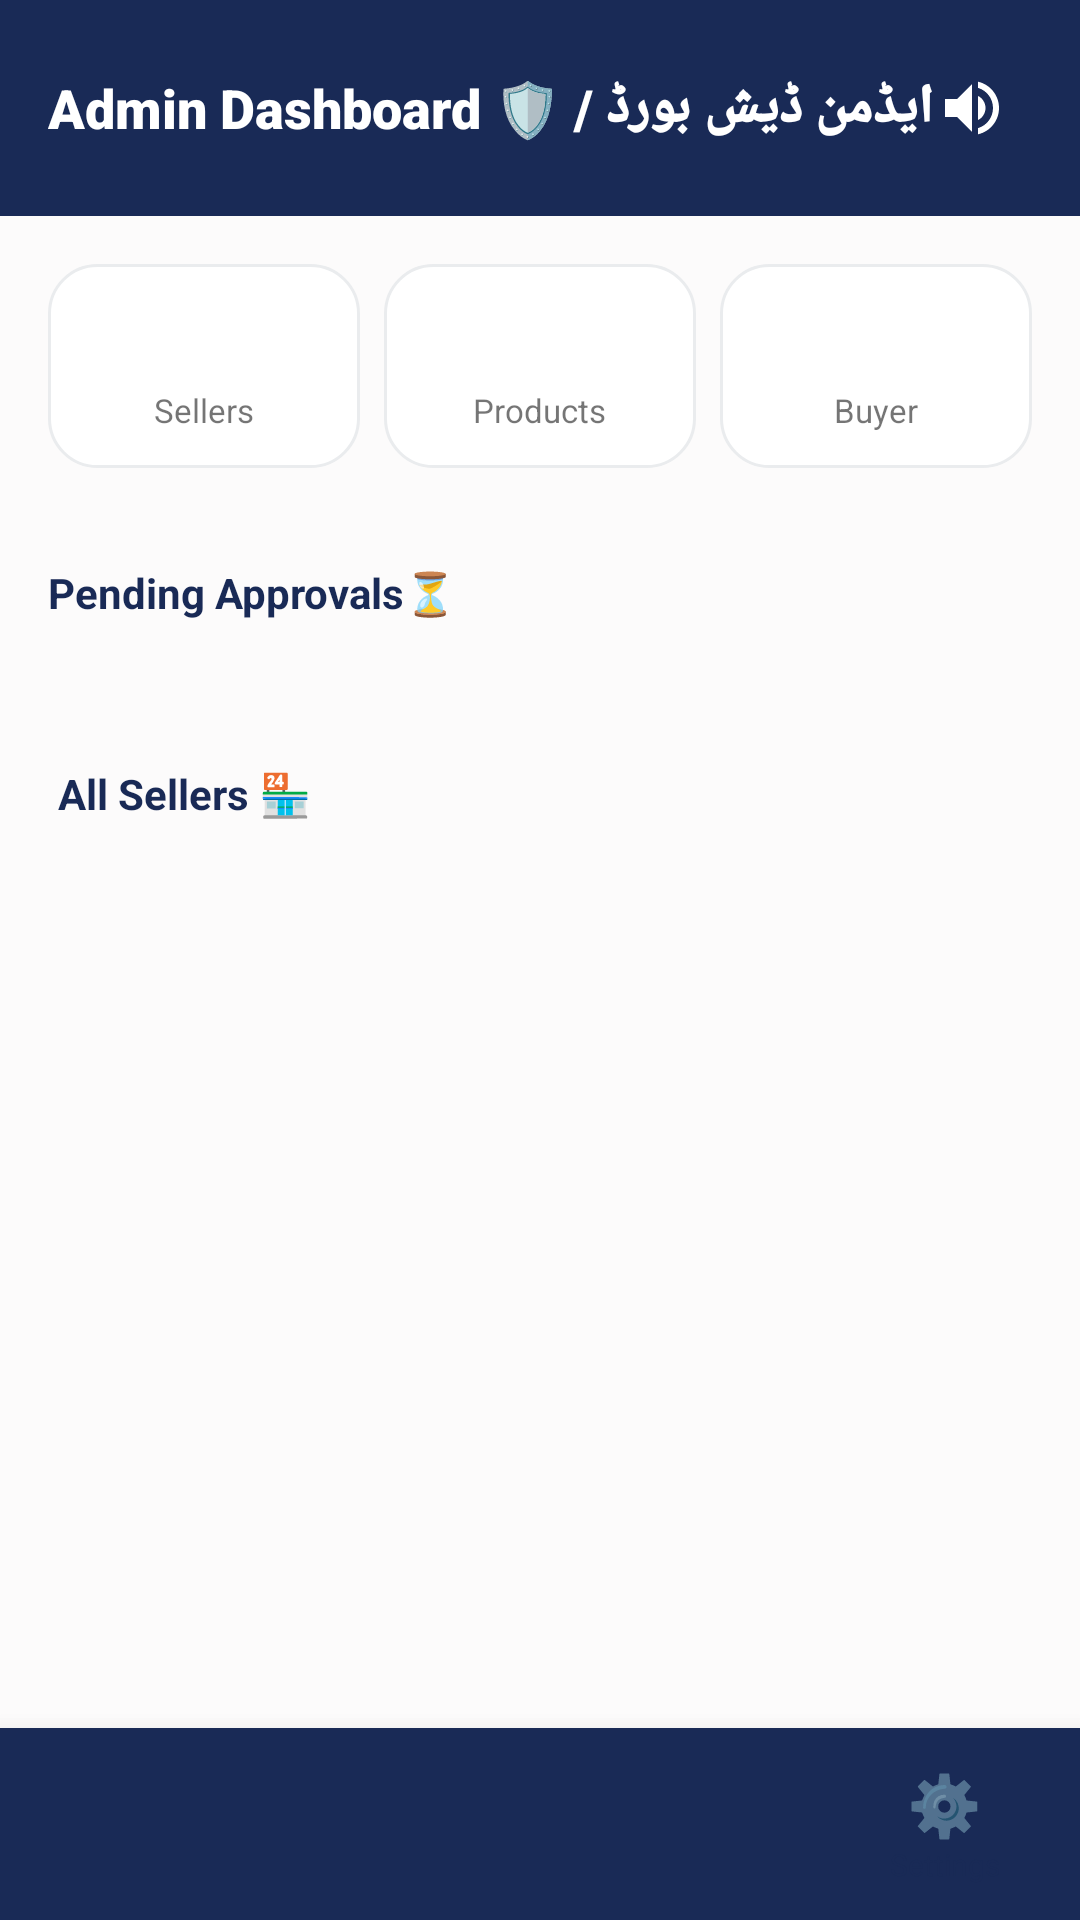

Named icons in this screenshot (1080px x 1920px) and their bounding boxes, (x1, y1, x2, y2):
Speaker: (922, 81, 999, 135)
